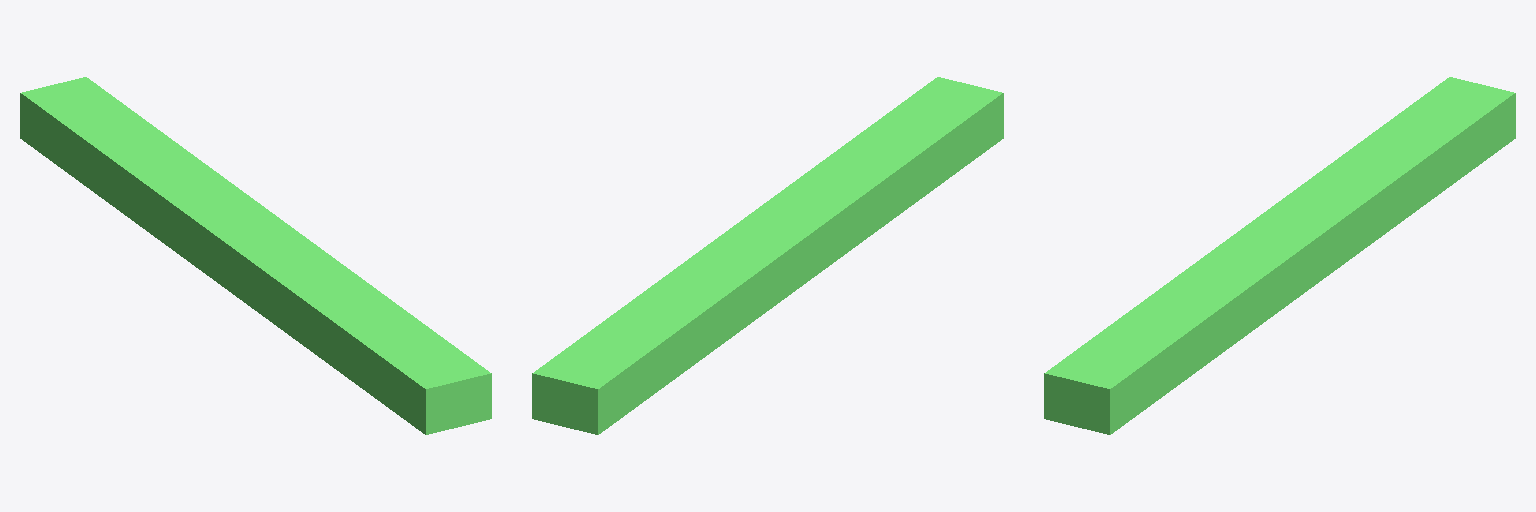
The robot description file, URDF, robot "hit_ball_with_queue_pocket":
<?xml version="1.0"?>
<robot name="hit_ball_with_queue_pocket">
    <link name="robot_base">
        <inertial>
            <origin rpy="3.141567 3.141622 -3.141592" xyz="0.346995 0.149750 0.752999" />
            <inertia iyy="0.0010572118600667" iyz="1.5656470670435e-11" ixx="0.00078661598519292" izz="3.3149268293965e-07" ixz="-5.8811612722704e-12" ixy="-3.9376787719559e-14" />
            <mass value="0.067200005054474" />
        </inertial>
        <collision name="hit_ball_with_queue_pocket">
            <origin xyz="0.346995 0.149750 0.752999" rpy="3.141567 3.141622 -3.141592" />
            <geometry>
                <box size="0.007500 0.080000 0.005000" />
            </geometry>
        </collision>
        <visual name="hit_ball_with_queue_pocket">
            <origin xyz="0.346995 0.149750 0.752999" rpy="3.141567 3.141622 -3.141592" />
            <geometry>
                <box size="0.007500 0.080000 0.005000" />
            </geometry>
            <material name="robot_base_material">
                <color rgba="0.540000 1.000000 0.540000 1.0" />
            </material>
        </visual>
    </link>
</robot>

--- Render facts (derived) ---
3 views of the same robot in one strip: view 1: azimuth 30°, elevation 25°; view 2: azimuth 150°, elevation 25°; view 3: azimuth 330°, elevation 25° (orthographic).
Model hit_ball_with_queue_pocket with 1 links and 0 joints (none), rooted at robot_base, posed all joints at 0.
Links seen in each view (by area): view 1: robot_base; view 2: robot_base; view 3: robot_base.
Link boxes in pixels (x1,y1,x2,y2): robot_base: (20, 77, 491, 434); robot_base: (532, 77, 1003, 434); robot_base: (1044, 77, 1515, 434).
Bounding box of the posed robot: 0.0075 × 0.08 × 0.005 m (x, y, z).
Geometry: primitives only (box / cylinder / sphere), no mesh files.
